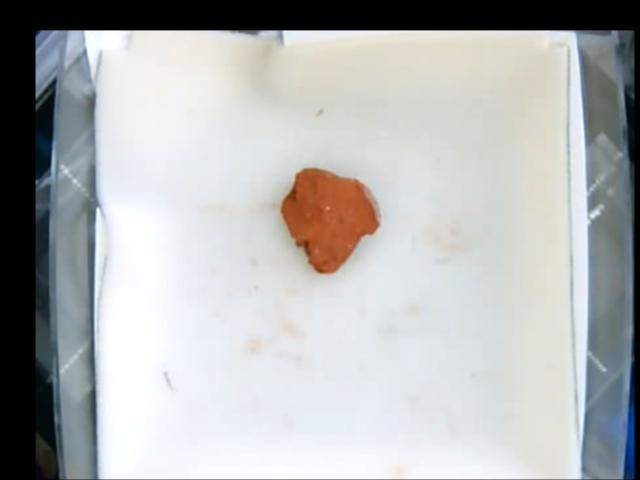Brisk: (280, 166, 378, 271)
